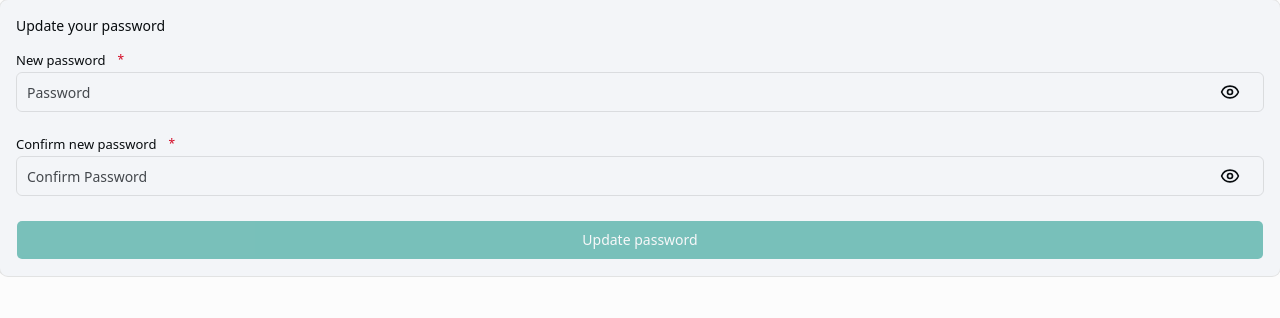
Test: UpdatePasswordForm › should validate password confirmation
The image size is (1280, 318).
Type "password123" into the password field with placeholder "password" at [640, 92], box [16, 72, 1264, 112]
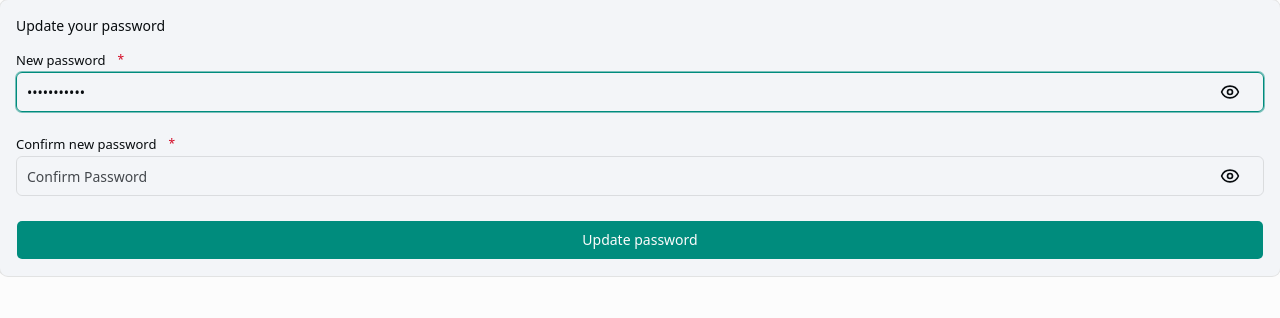
Type "differentpassword" into the password field labelled "Confirm new password *" at [640, 176], box [16, 156, 1264, 196]
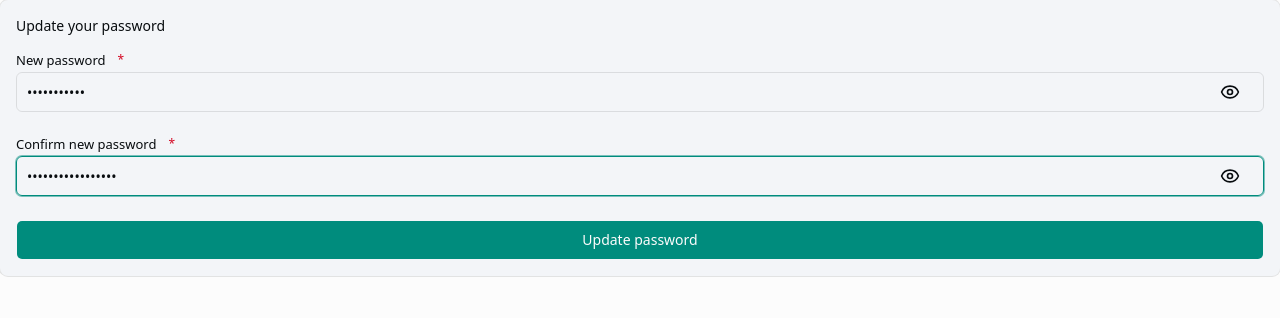
Click the button "Update password" at [640, 240], box [16, 220, 1264, 260]
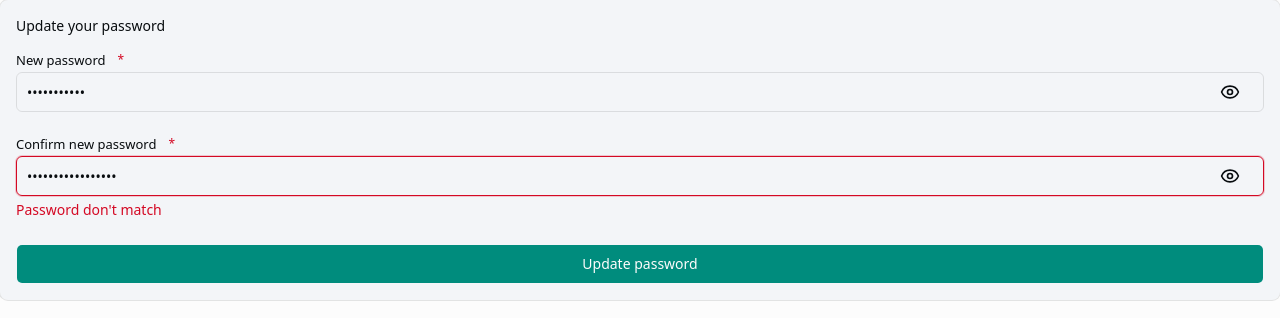
Result: the list item "Password don't match" is shown at [16, 200, 162, 219]
